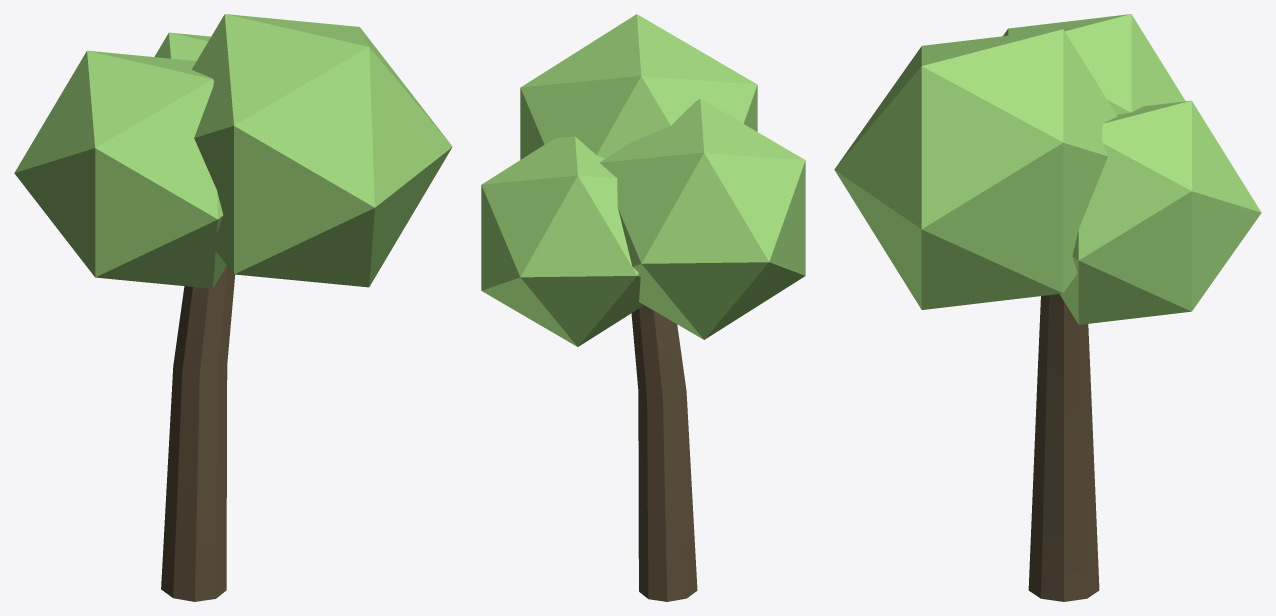
The model's file is GameJam_Tree2.fbx.
3 views of the same model, side by side, from view 1: azimuth 30°, elevation 25°; view 2: azimuth 150°, elevation 25°; view 3: azimuth 270°, elevation 25° (orthographic). The views are drawn at different scales.
Visible parts, largest first — view 1: Tree2Shape; view 2: Tree2Shape; view 3: Tree2Shape.
Boxes of the visible parts, x1,y1,x2,y2 form: Tree2Shape: (14, 14, 452, 601); Tree2Shape: (481, 14, 805, 601); Tree2Shape: (834, 14, 1261, 601).
Bounding box in the file's own units: 4.08 × 6.59 × 4.45.
